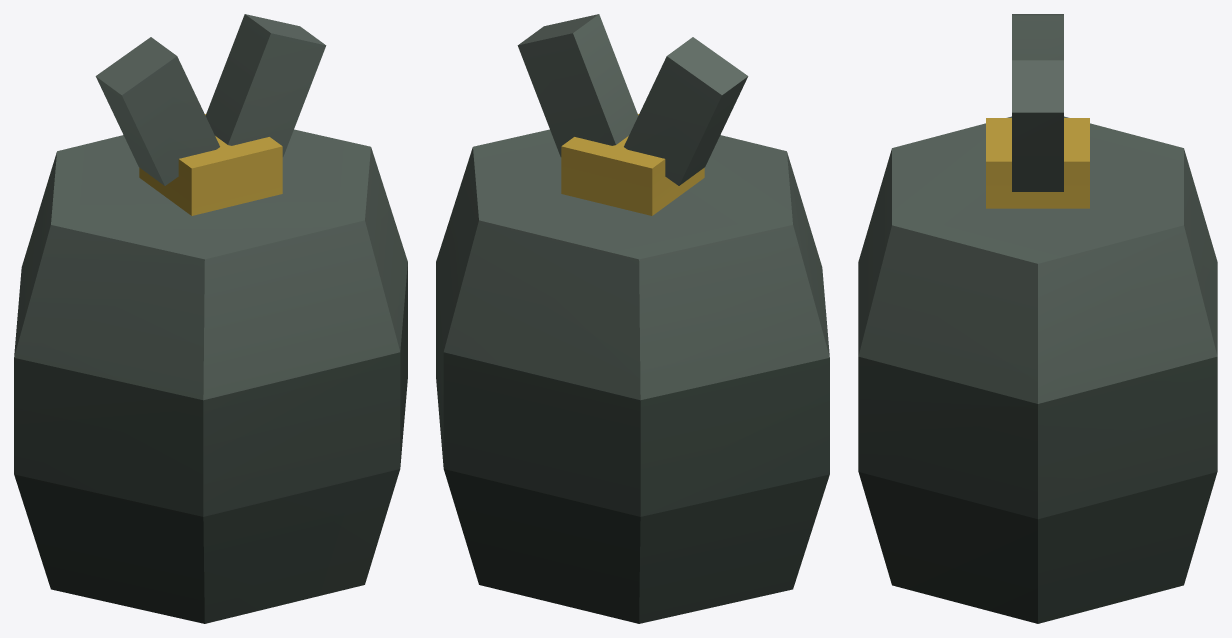
The model's file is custom-lixo-saco.glb.
3 renders of one model, left to right at view 1: azimuth 30°, elevation 25°; view 2: azimuth 150°, elevation 25°; view 3: azimuth 270°, elevation 25°, orthographic.
Visible parts, largest first — view 1: lixo-saco; view 2: lixo-saco; view 3: lixo-saco.
Boxes of the visible parts, bbox=[...] form: lixo-saco: bbox=[14, 14, 407, 623]; lixo-saco: bbox=[436, 14, 829, 623]; lixo-saco: bbox=[858, 14, 1217, 623].
Bounding box in the file's own units: 0.52 × 0.6502 × 0.4157.
